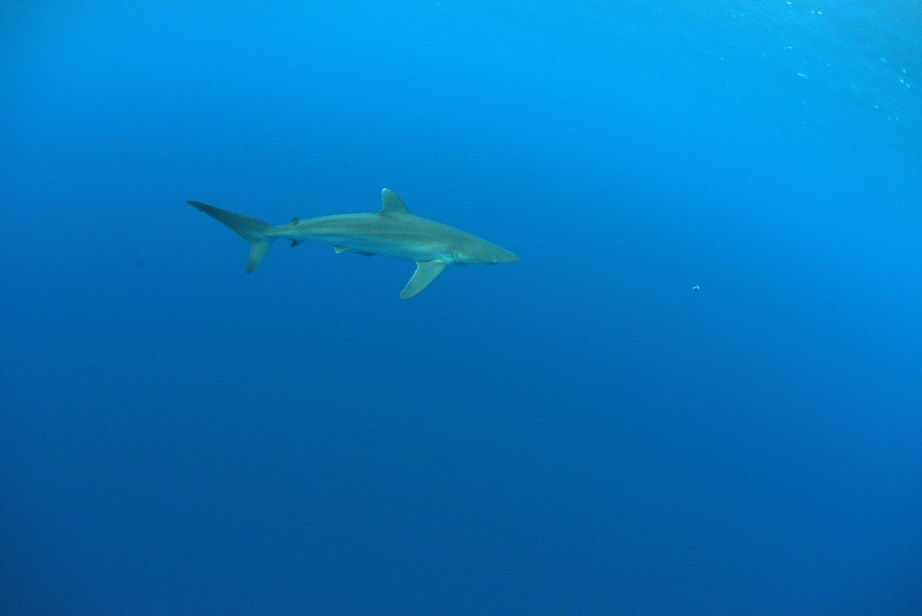Sedoso: (170, 171, 526, 310)
